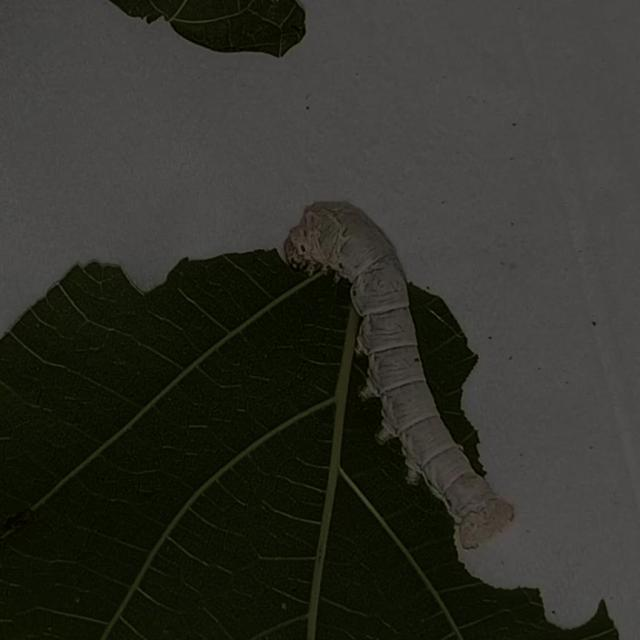Healthy: (272, 182, 521, 553)
